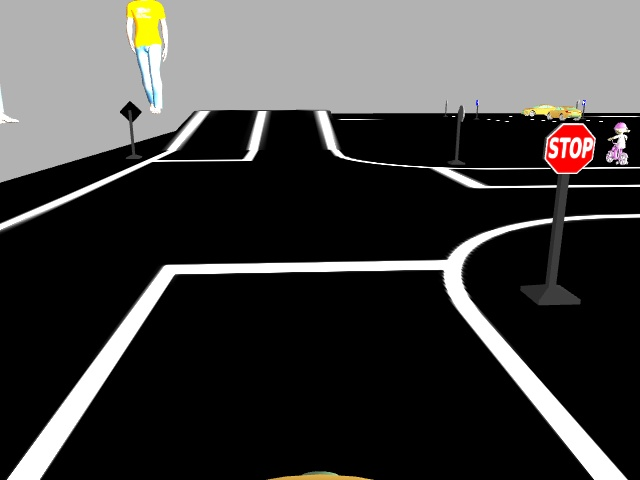Stop: (544, 121, 596, 174)
